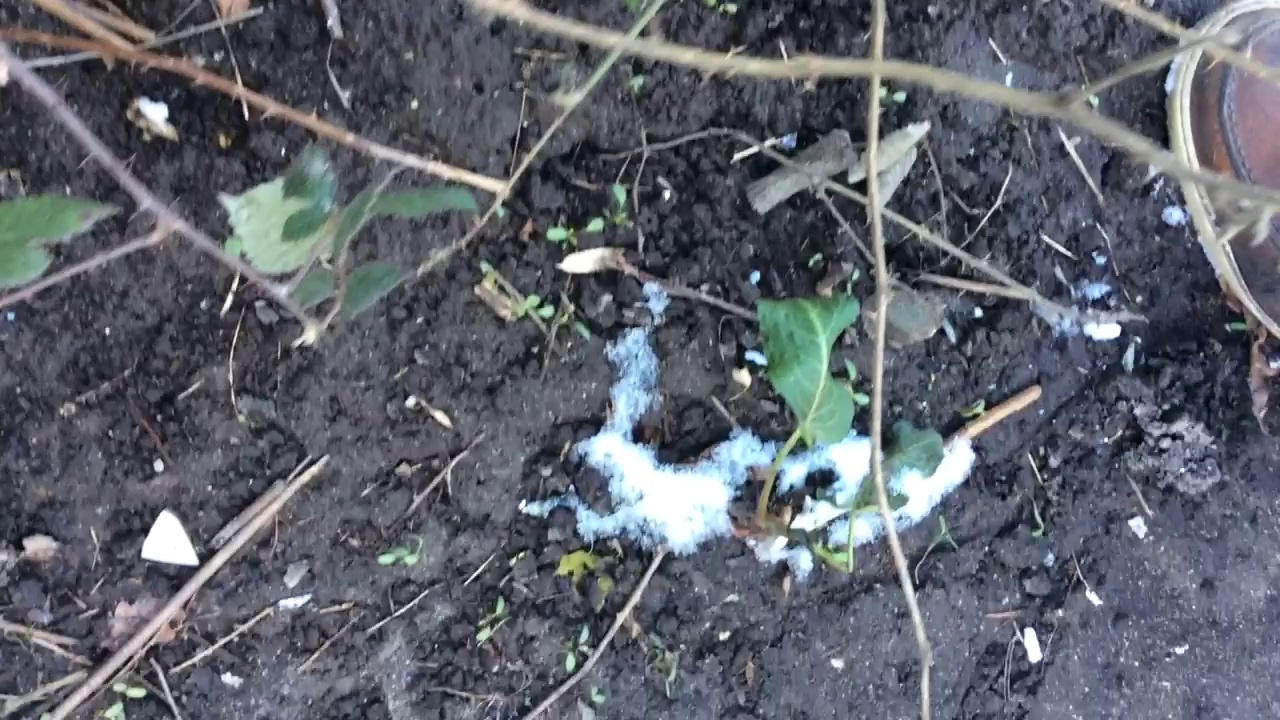root: (736, 498, 804, 555)
rumex: (727, 288, 950, 586)
